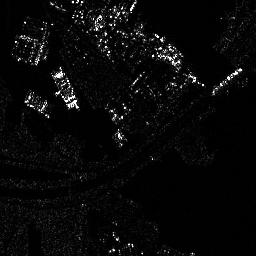ship: (24, 90, 51, 116)
